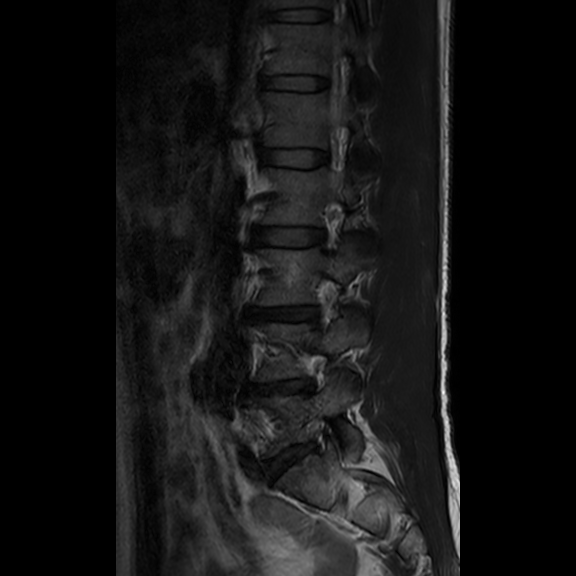RFS0: (306, 197, 351, 263)
